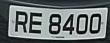0: (88, 11, 104, 37), (76, 12, 90, 37)
4: (62, 12, 76, 36)
8: (47, 11, 63, 37)
E: (28, 10, 44, 37)
R: (14, 10, 29, 35)
